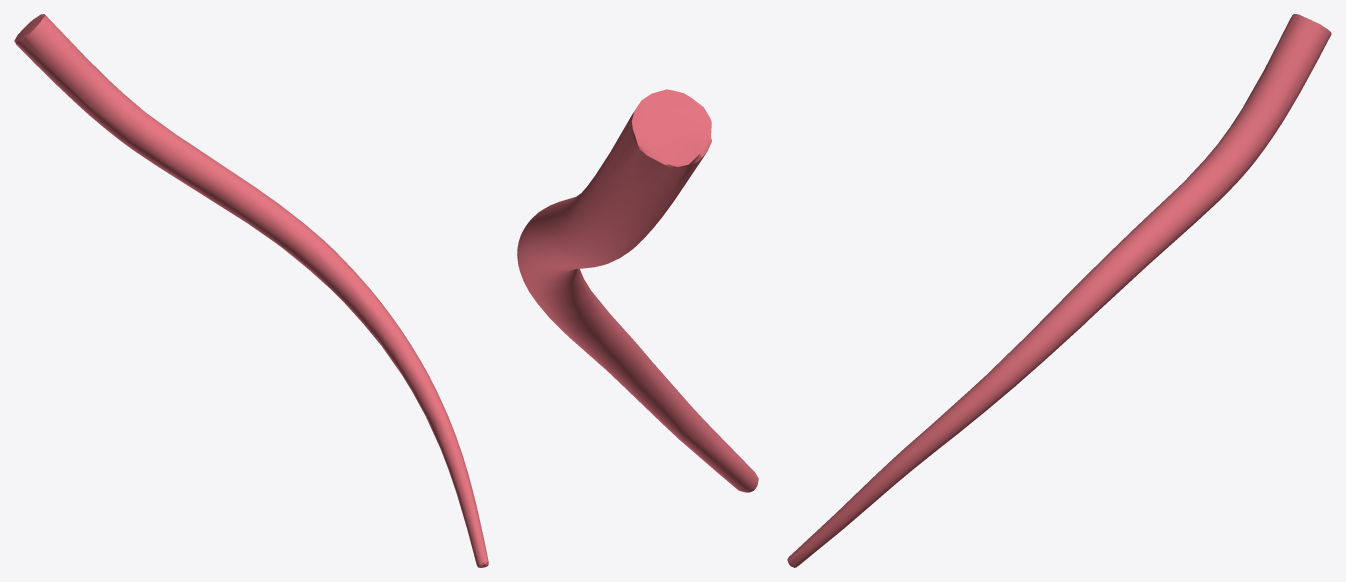
The model's file is fma8644_fj2884.glb.
3 views of the same model, side by side, from view 1: azimuth 30°, elevation 25°; view 2: azimuth 150°, elevation 25°; view 3: azimuth 270°, elevation 25° (orthographic). The views are drawn at different scales.
Parts seen in each view (by area): view 1: FMA8644_FJ2884; view 2: FMA8644_FJ2884; view 3: FMA8644_FJ2884.
Boxes of the visible parts, x1,y1,x2,y2 form: FMA8644_FJ2884: [14, 14, 488, 567]; FMA8644_FJ2884: [517, 89, 758, 492]; FMA8644_FJ2884: [787, 14, 1331, 567].
Bounding box in the file's own units: 0.0432 × 0.0725 × 0.0796.
